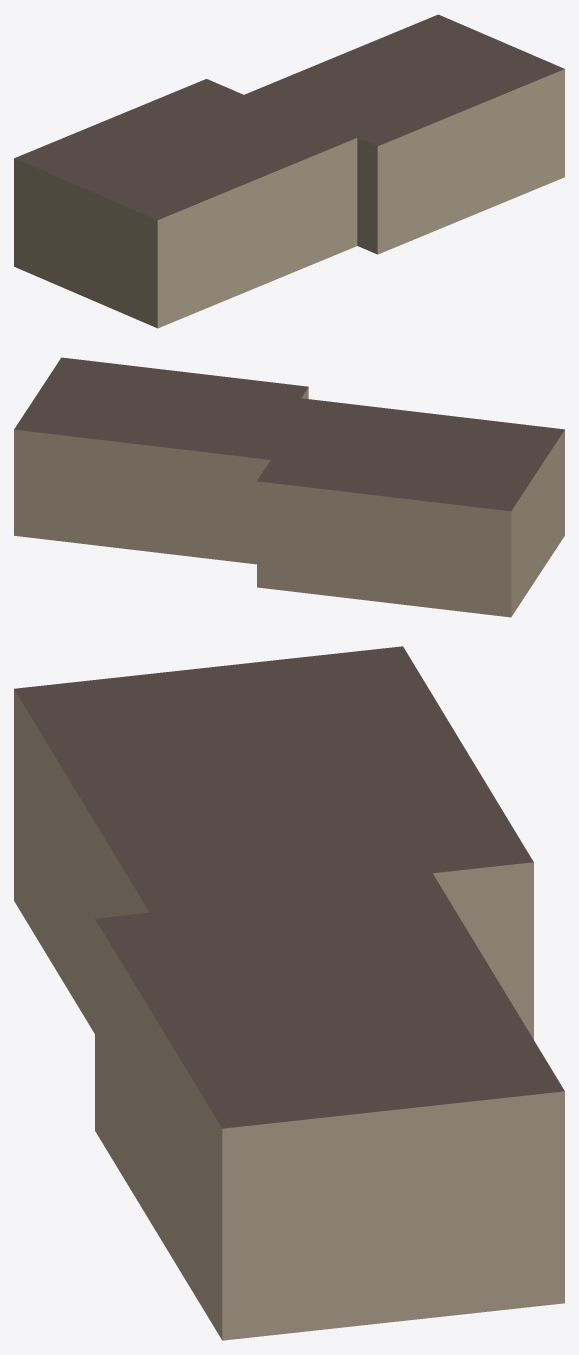
3 views of the same model, one above another, from view 1: azimuth 30°, elevation 25°; view 2: azimuth 150°, elevation 25°; view 3: azimuth 270°, elevation 25° (orthographic). The views are drawn at different scales.
Visible parts, largest first — view 1: HP-w293397508; view 2: HP-w293397508; view 3: HP-w293397508.
Boxes of the visible parts, x1,y1,x2,y2 form: HP-w293397508: (14, 14, 564, 328); HP-w293397508: (14, 357, 564, 617); HP-w293397508: (14, 646, 564, 1340).
Bounding box in the file's own units: 43.92 × 9 × 21.2.
